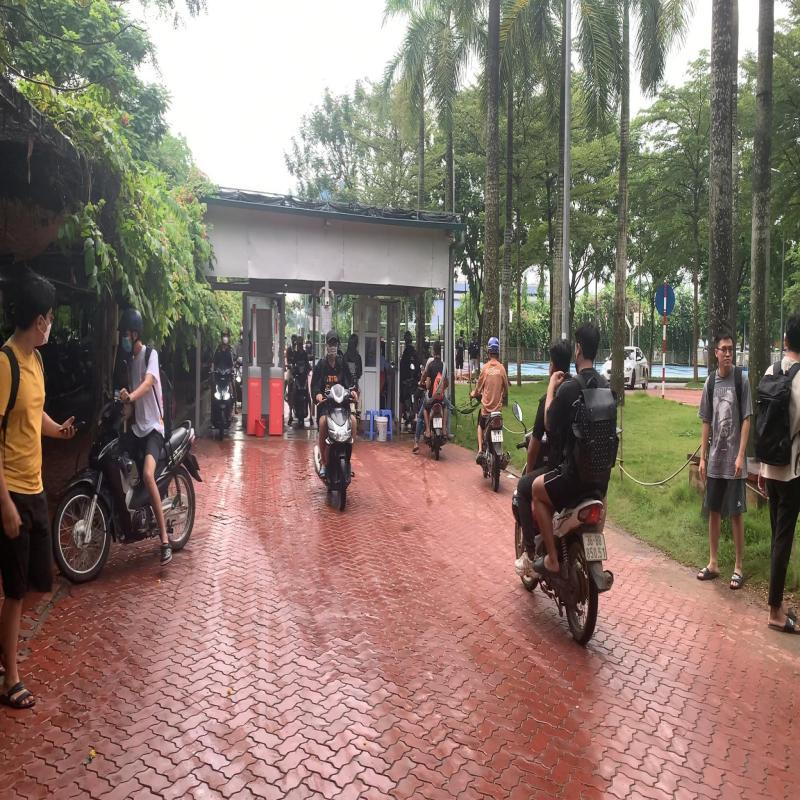nohelmet: (574, 319, 601, 371), (548, 336, 574, 379), (432, 340, 442, 358)
